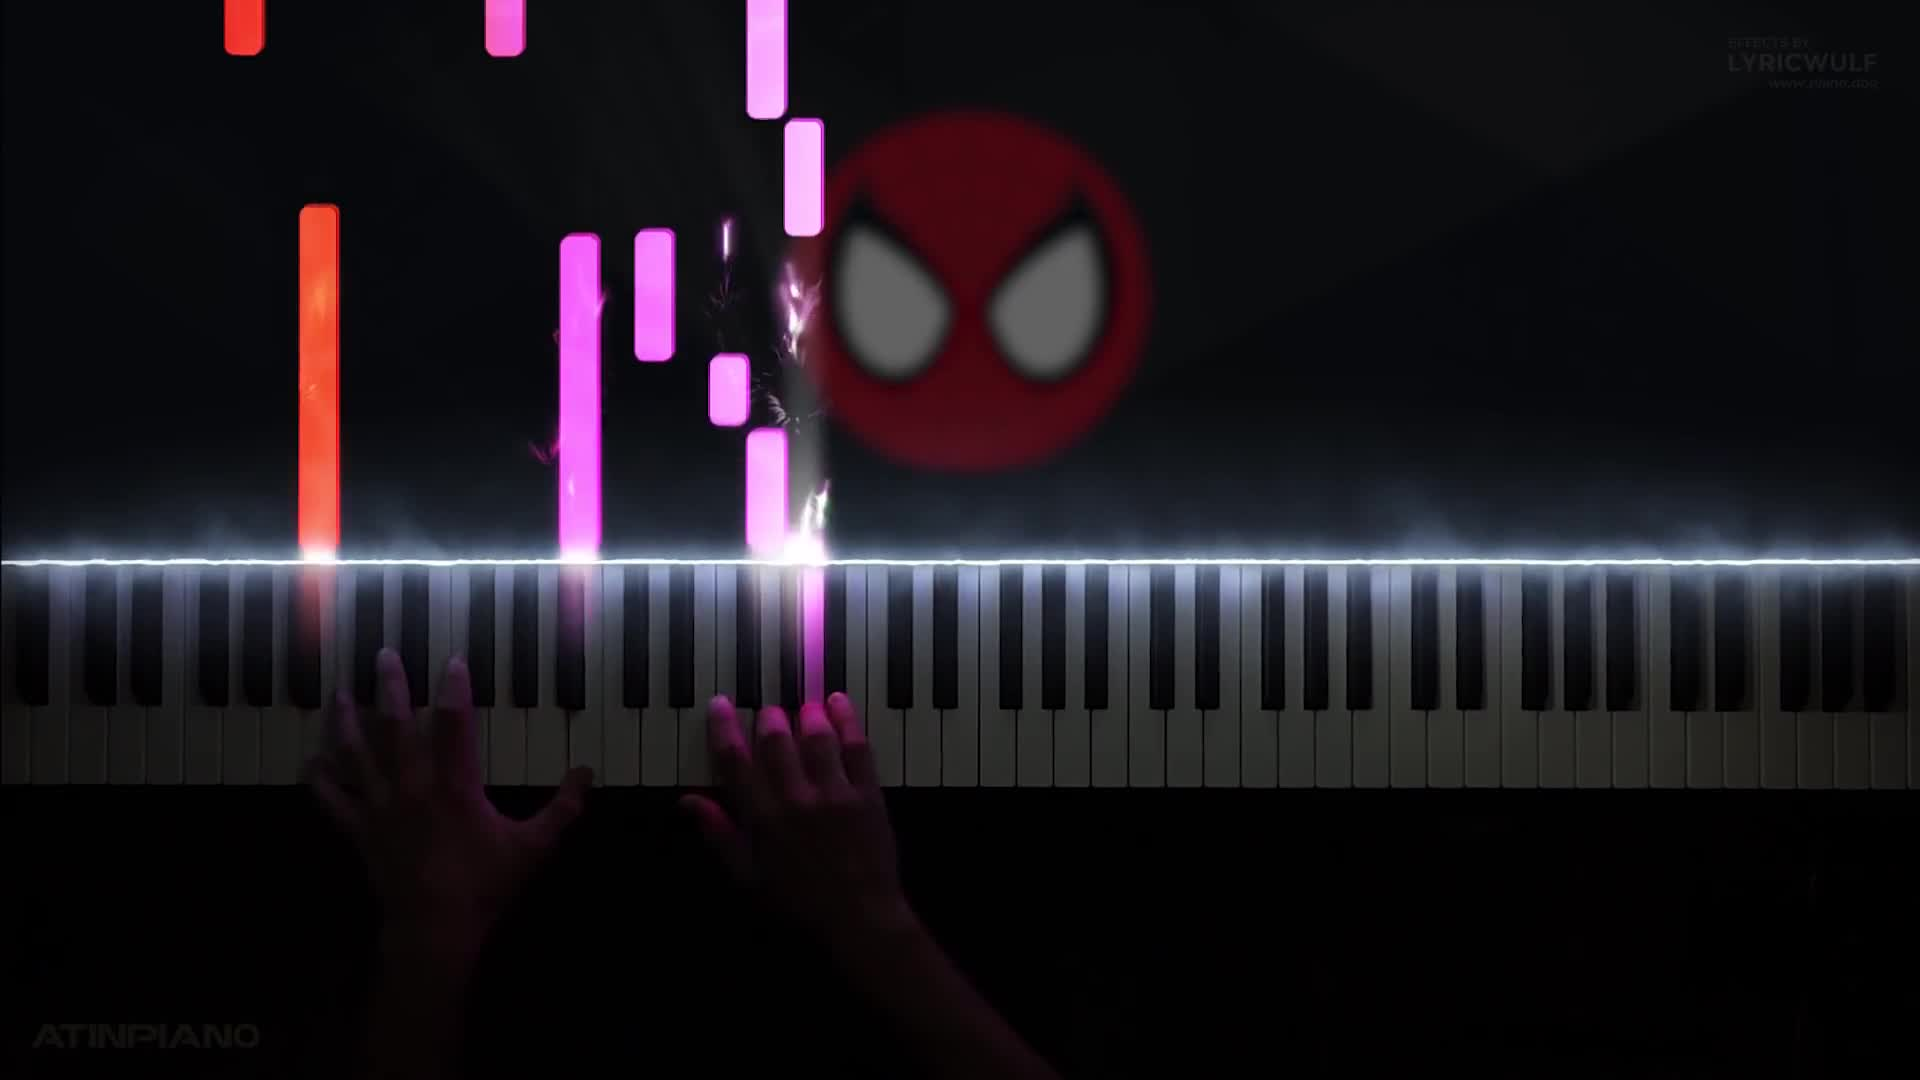left: (305, 649, 596, 920)
right: (678, 686, 893, 922)
